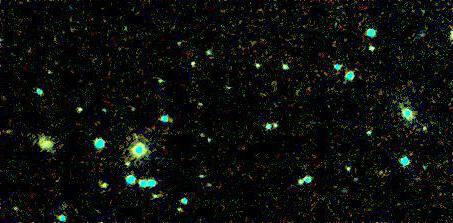star: (0, 115, 25, 145)
